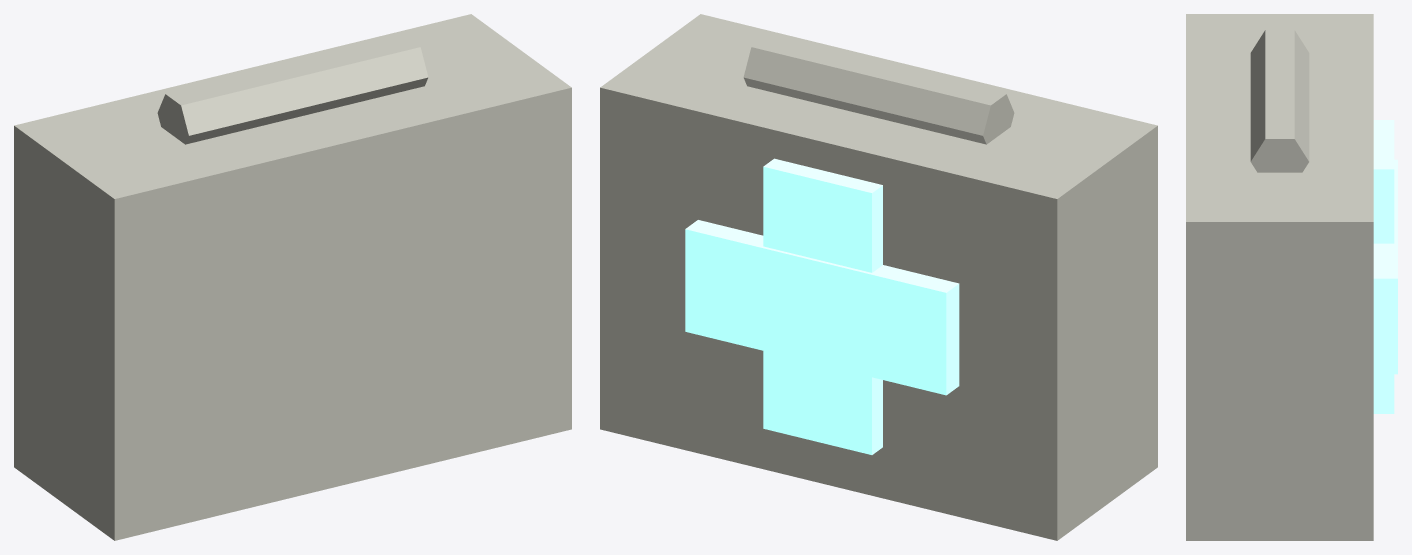
File: prop_medkit_01.glb
3 renders of one model, left to right at view 1: azimuth 30°, elevation 25°; view 2: azimuth 150°, elevation 25°; view 3: azimuth 270°, elevation 25°, orthographic. The views are drawn at different scales.
Visible parts, largest first — view 1: prop_medkit_01; view 2: prop_medkit_01; view 3: prop_medkit_01.
Boxes of the visible parts, x1=… form: prop_medkit_01: x1=14, y1=14, x2=571, y2=540; prop_medkit_01: x1=600, y1=14, x2=1157, y2=540; prop_medkit_01: x1=1186, y1=14, x2=1397, y2=540.
Size of the model in its own units: 0.42 by 0.3317 by 0.1805.
